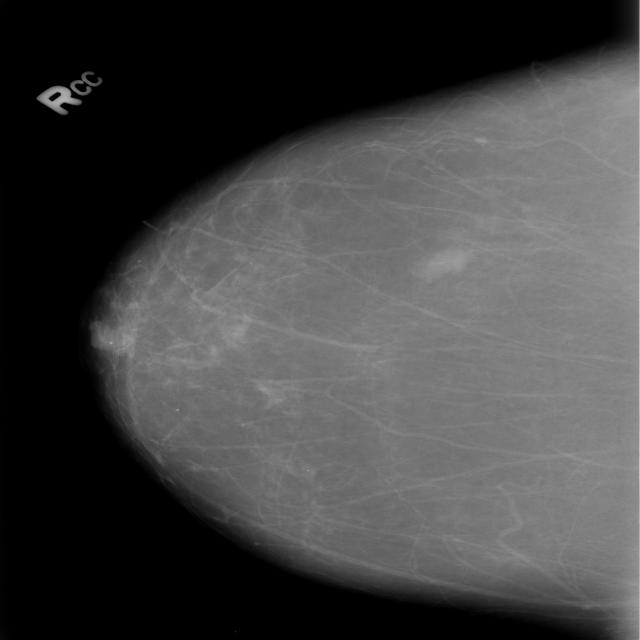normal: (83, 38, 640, 601)
